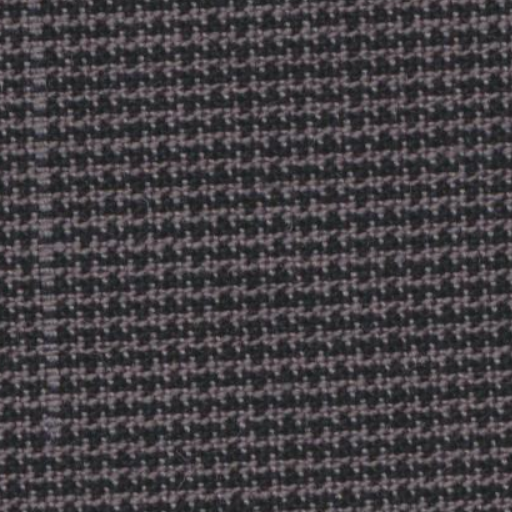TuoSha: (8, 7, 100, 504)
